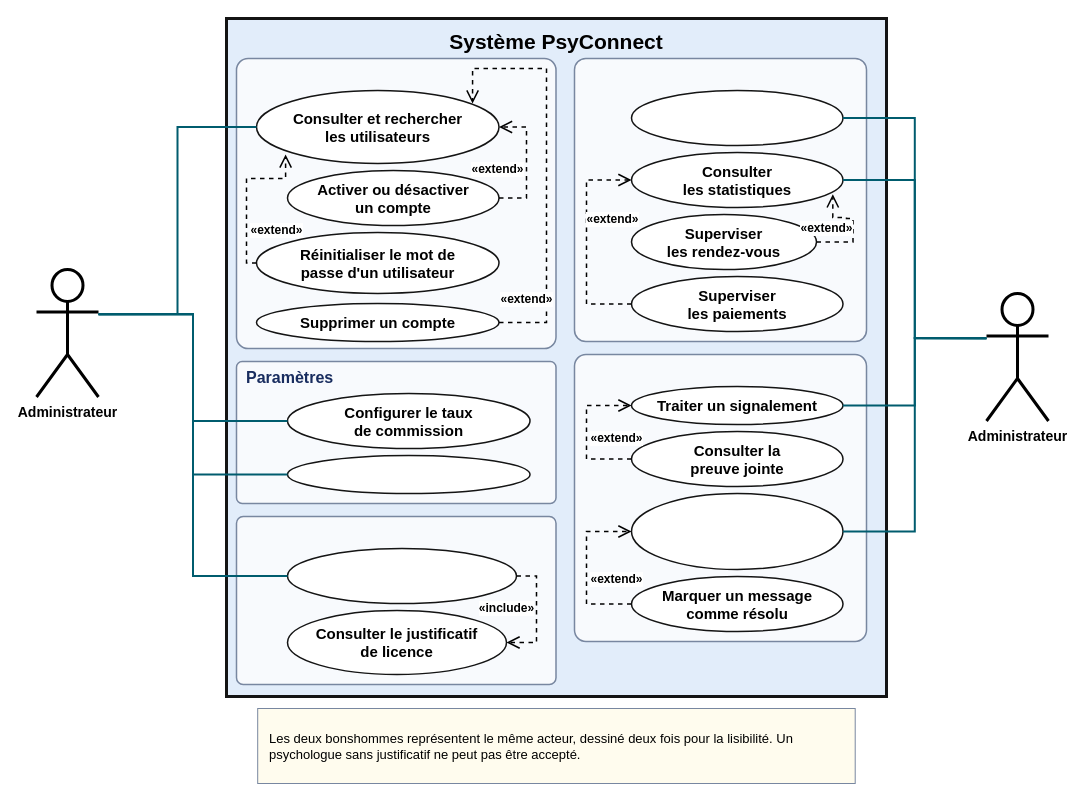
Image size: 1084x801. Some labels were removed from this diagram. Here are the shapes that lost their labels. From the top down, the box of each, then its label:
(630, 89, 843, 146): Consulter le tableau de bord
(235, 57, 556, 349): Comptes utilisateurs
(573, 57, 867, 342): Supervision
(286, 454, 530, 494): Diffuser une annonce
(573, 353, 867, 642): Signalements et support
(630, 492, 843, 570): Répondre à un message de support
(286, 547, 517, 604): Valider ou refuser un psychologue
(235, 515, 556, 685): Validation des psychologues
